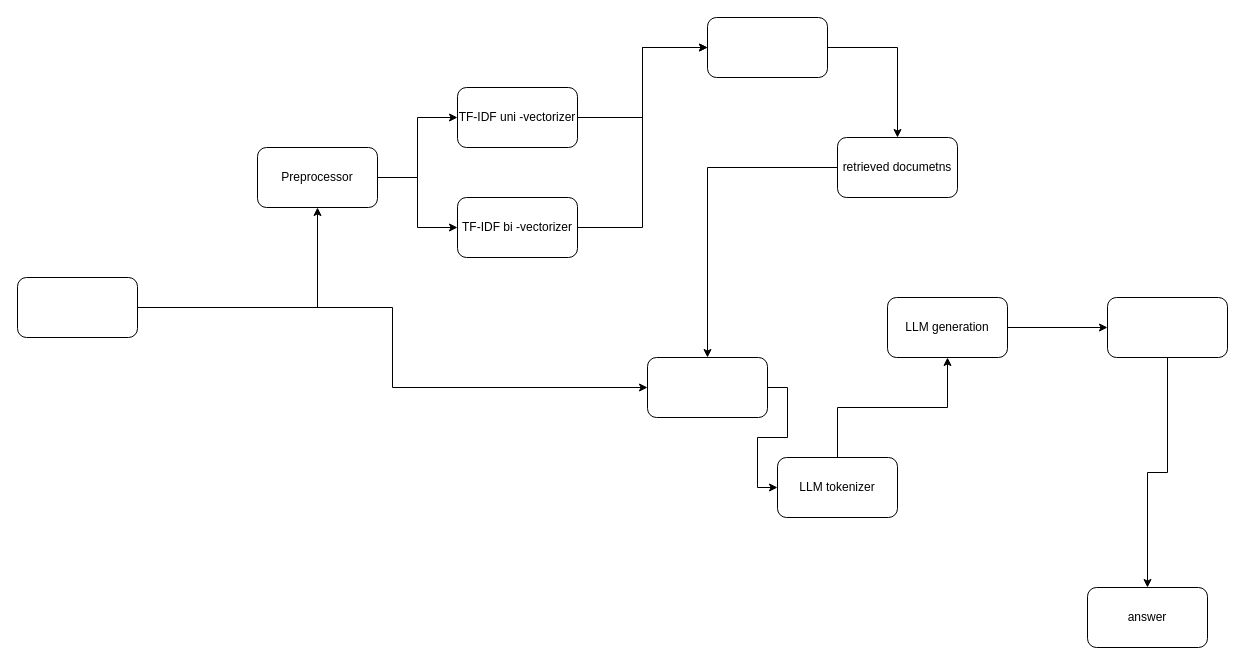
Image size: 1245x665. Some labels were removed from this diagram. The box of each missing label's shape, as (x1, y1, x2, y2) in pixels:
kNN + threshold: (706, 16, 828, 78)
LLM decode: (1106, 296, 1228, 358)
Prompt: (646, 356, 768, 418)
Query: (16, 276, 138, 338)
